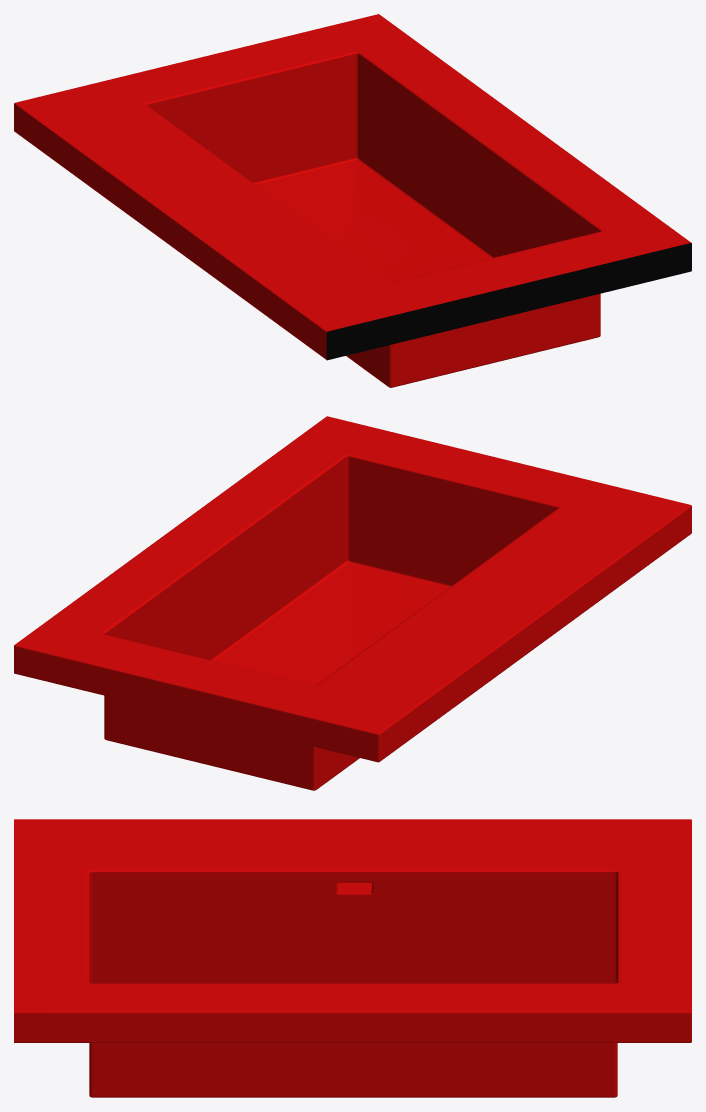
The model's file is Sink.dae.
The picture shows the model from 3 angles, top to bottom: view 1: azimuth 30°, elevation 25°; view 2: azimuth 150°, elevation 25°; view 3: azimuth 270°, elevation 25°; orthographic projection. The views are drawn at different scales.
Parts seen in each view (by area): view 1: HobSlabMESH_001; view 2: HobSlabMESH_001; view 3: HobSlabMESH_001.
Boxes of the visible parts, x1,y1,x2,y2 form: HobSlabMESH_001: (14,14,691,387); HobSlabMESH_001: (14,416,691,790); HobSlabMESH_001: (14,819,691,1097).
Bounding box in the file's own units: 69.02 × 102 × 21.82.
